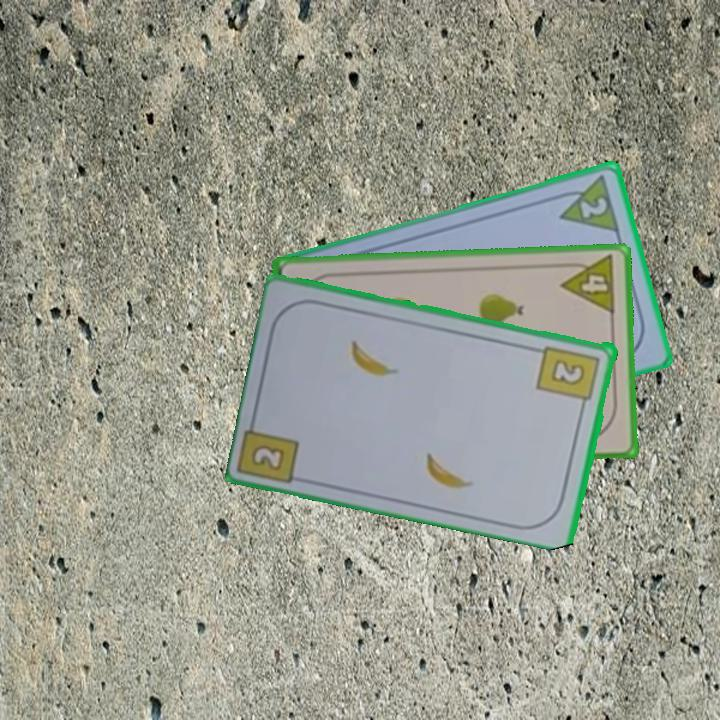2b: (534, 342, 603, 412), (247, 441, 288, 474)
2p: (551, 170, 623, 235)
4p: (557, 252, 619, 317)
